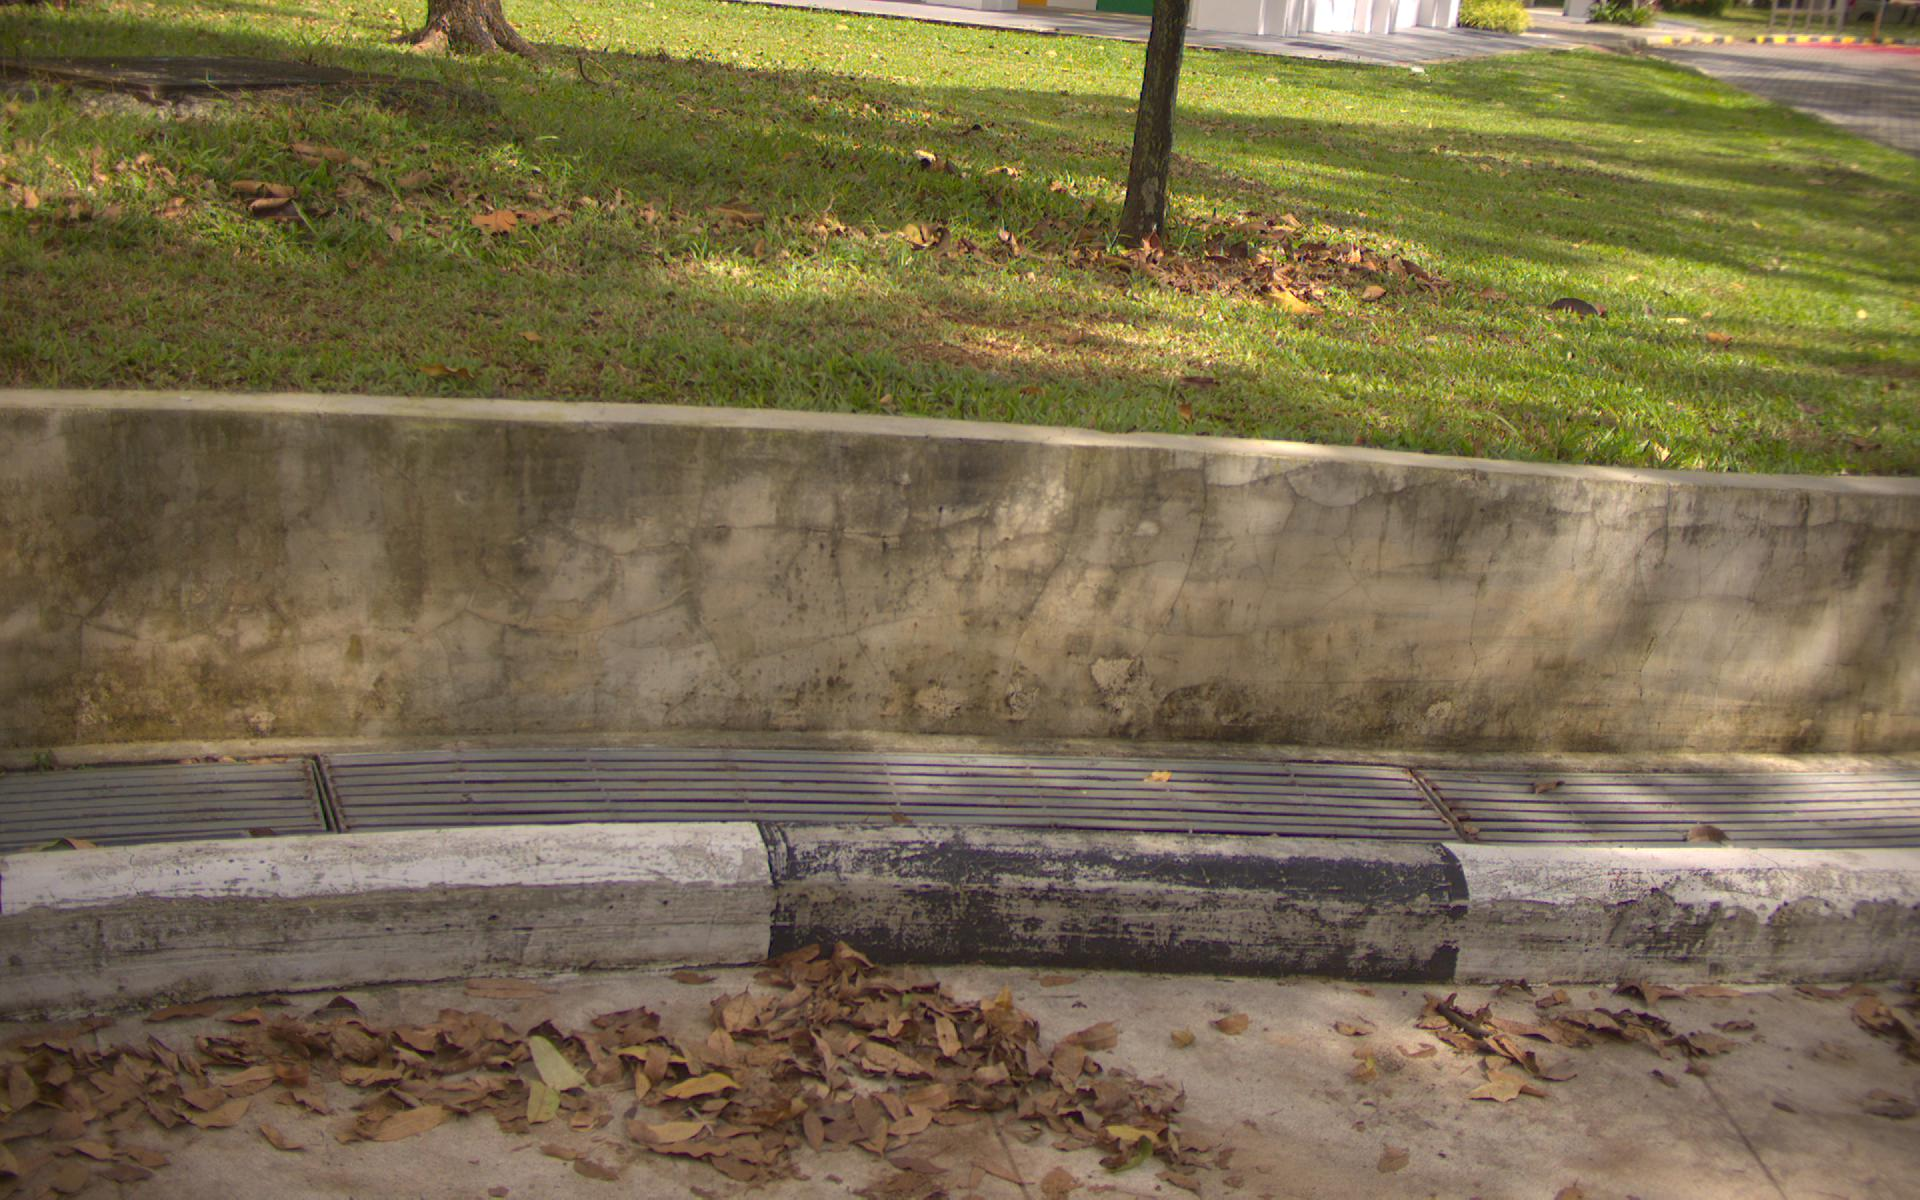curb_dic_low: (15, 755, 1913, 845)
road_curb_medium: (232, 993, 1908, 1200)
road_turf_low: (1, 129, 1858, 353)
